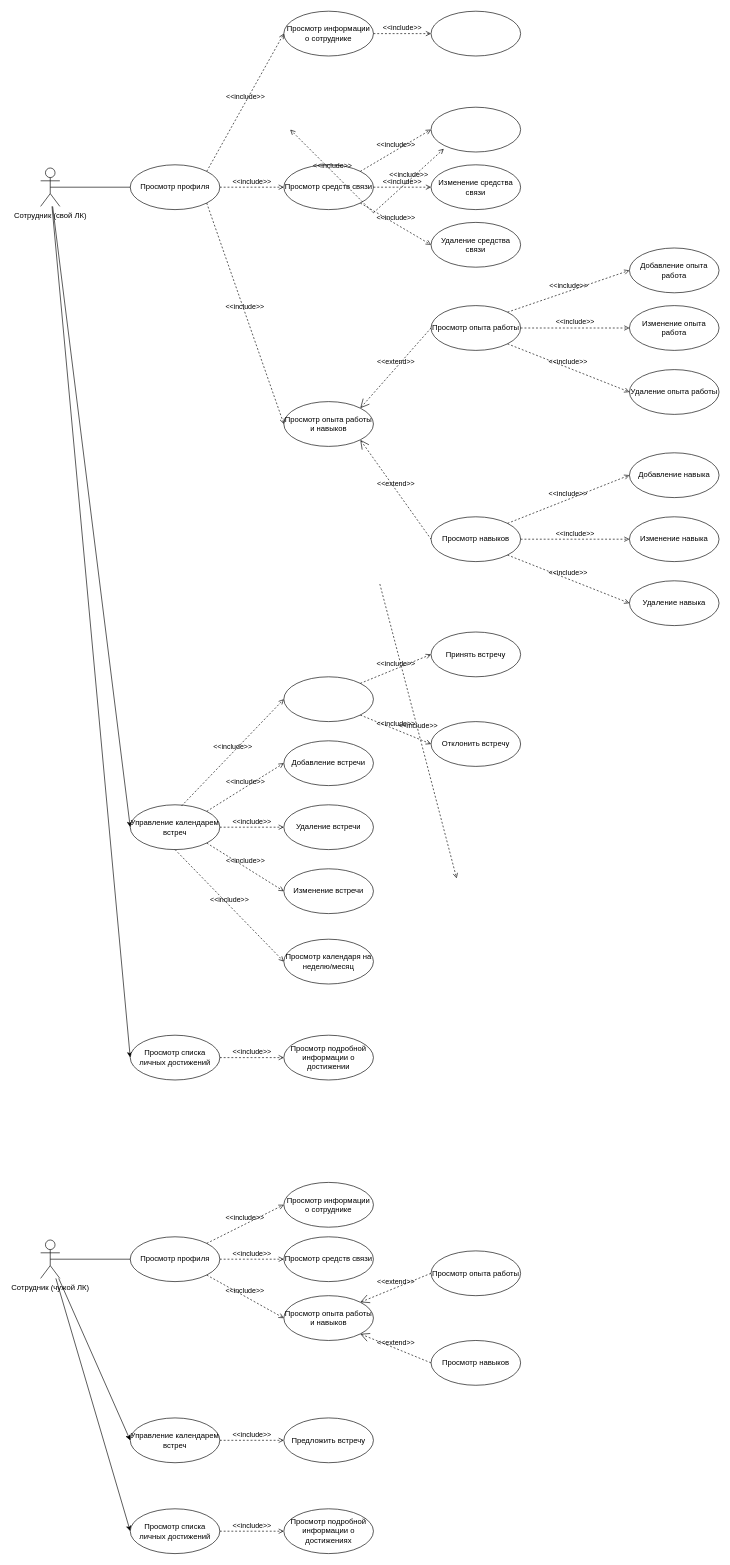
Some shapes in this 730 by 1565 pixel diagram are drawn without their labels. Each missing label, with the centre of its shape:
Добавление средства связи: (x=475, y=129)
Просмотр списка предложенных встреч: (x=328, y=699)
Редактирование информации о сотруднике: (x=475, y=33)
